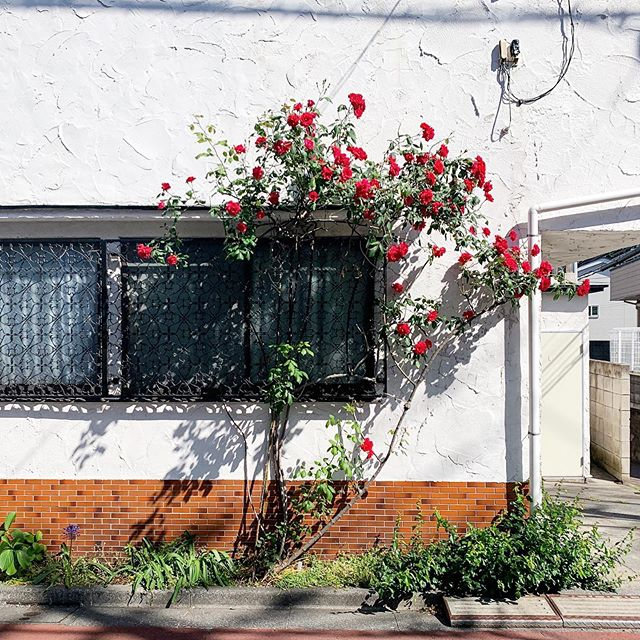flowers: (180, 122, 569, 621)
wall: (4, 6, 522, 537)
window: (1, 220, 373, 422)
